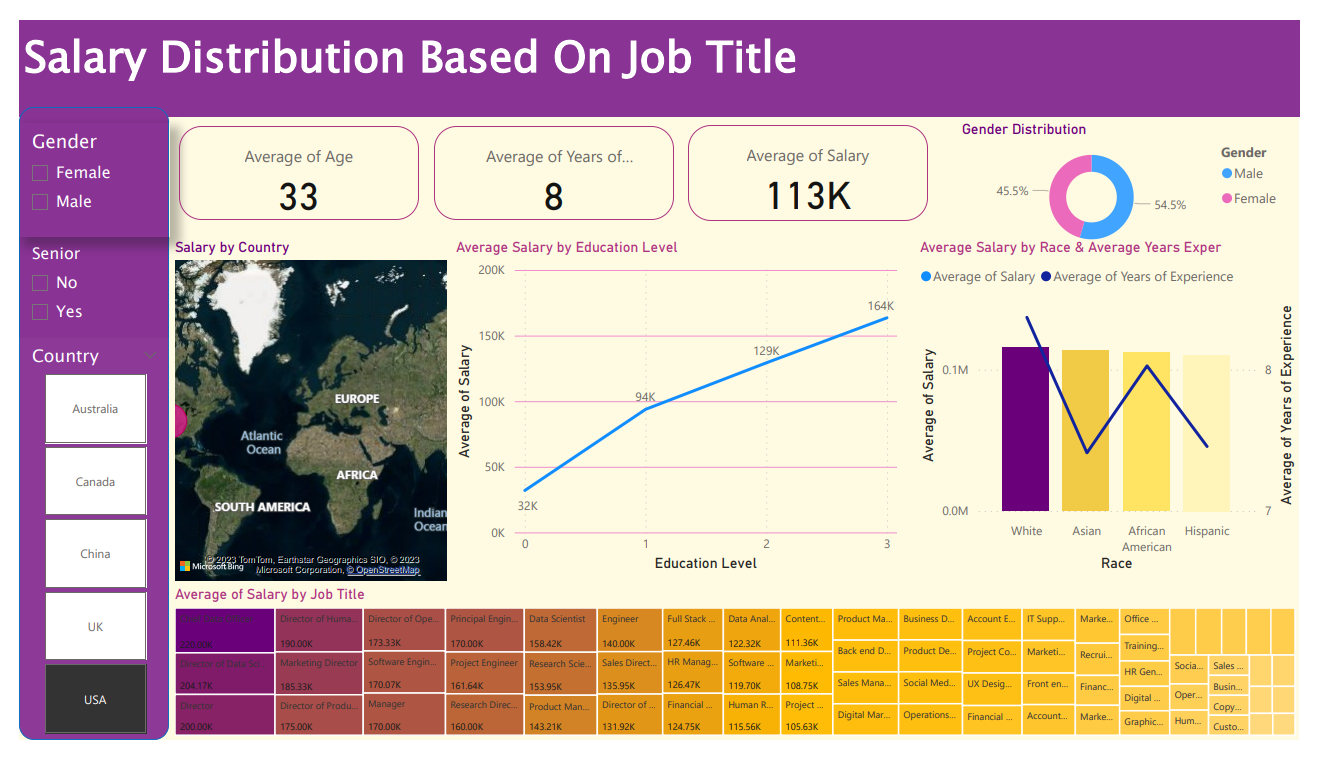

The dashboard page shown, as its layout file describes it:
{"tool":"powerbi","page":{"name":"Page 1","canvas":[1280,720],"ordinal":0},"visuals":[{"type":"textbox","box":[0,0,1280.6,96],"z":0},{"type":"shape","box":[0,86.8,150.4,633.2],"z":1000},{"type":"slicer","fields":{"Values":["Salary.Gender"]},"box":[0,102.8,150.8,113.8],"z":2000},{"type":"cardVisual","fields":{"Data":["Avg(Salary.Years of Experience)"]},"box":[409.5,101.1,250.6,103.9],"z":3000},{"type":"treemap","fields":{"Group":["Salary.Job Title"],"Values":["Avg(Salary.Salary)"]},"box":[150.8,566.2,1129.7,153.6],"z":4000},{"type":"map","title":"Salary by Country ","fields":{"Category":["Salary.Country"],"Size":["Sum(Salary.Salary)"],"Series":["Salary.Country"]},"box":[150.8,219.4,281.1,346.9],"z":5000},{"type":"donutChart","title":"Gender Distribution ","fields":{"Category":["Salary.Gender"],"Y":["CountNonNull(Salary.Gender)"]},"box":[937.6,101.5,334.9,134.5],"z":6000},{"type":"cardVisual","fields":{"Data":["Avg(Salary.Age)"]},"box":[155.2,101.1,250,103.9],"z":7000},{"type":"lineChart","title":"Average Salary by Education Level","fields":{"Category":["Salary.Education Level"],"Y":["Avg(Salary.Salary)"]},"box":[431.5,218.8,451.1,337.4],"z":8000},{"type":"slicer","title":" Salary by Years of Experience","fields":{"Values":["Salary.Senior"]},"box":[0,216.4,150.4,101.5],"z":9000},{"type":"lineStackedColumnComboChart","title":"Average Salary by Race & Average Years Exper","fields":{"Category":["Salary.Race"],"Y":["Avg(Salary.Salary)"],"Y2":["Avg(Salary.Years of Experience)"]},"box":[896,218.8,383.8,337.4],"z":10000},{"type":"cardVisual","fields":{"Data":["Avg(Salary.Salary)"]},"box":[663.8,100.4,250.6,105.1],"z":11000},{"type":"slicer","fields":{"Values":["Salary.Country"]},"box":[0,318.1,150.8,401.7],"z":12000}]}

Visuals, with their boxes in screenshot pixels (x1, y1, x2, y2), scaled from the page's 1280x720 canvas onto the 1321x762 screenshot:
textbox: [left=0, top=0, right=1320, bottom=102]
shape: [left=0, top=92, right=155, bottom=761]
slicer - Salary.Gender: [left=0, top=109, right=156, bottom=229]
cardVisual - Avg(Salary.Years of Experience): [left=423, top=107, right=681, bottom=217]
treemap - Salary.Job Title x Avg(Salary.Salary): [left=156, top=599, right=1320, bottom=761]
"Salary by Country " map: [left=156, top=232, right=446, bottom=599]
"Gender Distribution " donutChart: [left=968, top=107, right=1313, bottom=250]
cardVisual - Avg(Salary.Age): [left=160, top=107, right=418, bottom=217]
"Average Salary by Education Level" lineChart: [left=445, top=232, right=911, bottom=589]
" Salary by Years of Experience" slicer: [left=0, top=229, right=155, bottom=336]
"Average Salary by Race & Average Years Exper" lineStackedColumnComboChart: [left=925, top=232, right=1320, bottom=589]
cardVisual - Avg(Salary.Salary): [left=685, top=106, right=944, bottom=217]
slicer - Salary.Country: [left=0, top=337, right=156, bottom=761]
